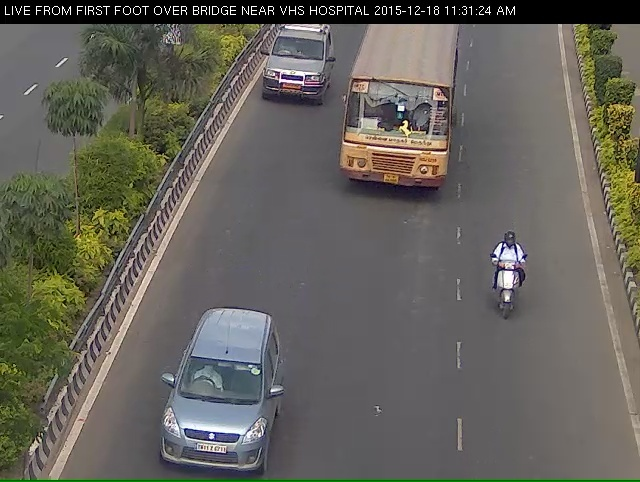Bus: (351, 22, 460, 215)
Car: (159, 326, 277, 478), (259, 28, 327, 119)
Person: (481, 239, 539, 348)
